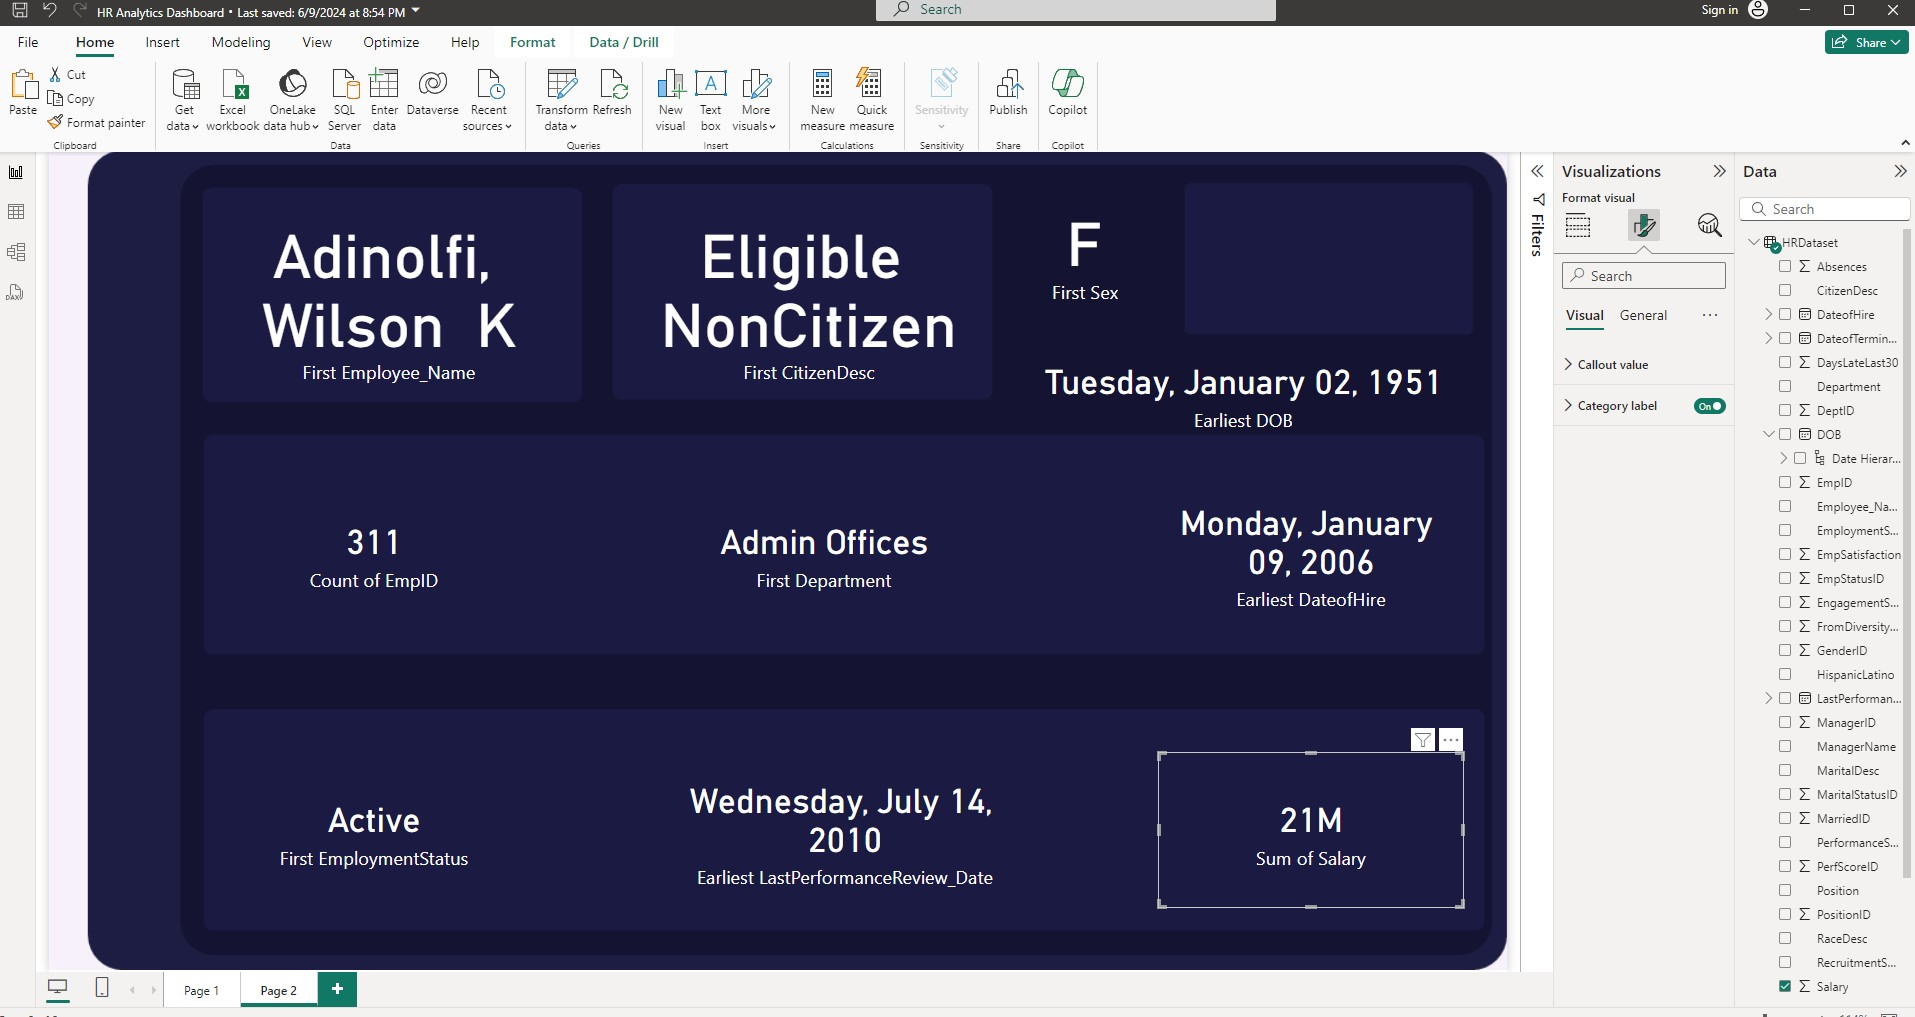

This screenshot's page, from the dashboard's own definition file:
{"tool":"powerbi","page":{"name":"Page 2","canvas":[1280,720],"ordinal":1},"visuals":[{"type":"card","fields":{"Values":["Min(HRDataset.Employee_Name)"]},"box":[151,39.5,295,171.2],"z":0},{"type":"card","fields":{"Values":["Min(HRDataset.CitizenDesc)"]},"box":[519.8,39.5,295,171.2],"z":1000},{"type":"card","fields":{"Values":["Min(HRDataset.Sex)"]},"box":[790.2,15.8,238.8,137.9],"z":2000},{"type":"card","fields":{"Values":["Min(HRDataset.DOB)"]},"box":[834.1,173.9,429.4,73.8],"z":3000},{"type":"card","fields":{"Values":["CountNonNull(HRDataset.EmpID)"]},"box":[151,282.7,268.7,137],"z":4000},{"type":"card","fields":{"Values":["Min(HRDataset.Department)"]},"box":[546.1,282.7,268.7,137],"z":5000},{"type":"card","fields":{"Values":["Min(HRDataset.DateofHire)"]},"box":[973.8,282.7,268.7,137],"z":6000},{"type":"card","fields":{"Values":["Min(HRDataset.EmploymentStatus)"]},"box":[151,526.8,268.7,137],"z":7000},{"type":"card","fields":{"Values":["Min(HRDataset.LastPerformanceReview_Date)"]},"box":[546.1,526.8,305.6,137],"z":8000},{"type":"card","fields":{"Values":["Sum(HRDataset.Salary)"]},"box":[973.8,526.8,268.7,137],"z":9000},{"type":"slicer","fields":{"Values":["HRDataset.Employee_Name"]},"box":[1022.9,27.2,219.5,134.3],"z":10000},{"type":"actionButton","box":[50.9,39.5,100.1,40.4],"z":10001}]}

Visuals, with their boxes on the page's 1280x720 design canvas (x1, y1, x2, y2). These are canvas units, not pixel positions in the 1915x1017 screenshot, which may show the page scaled, cropped or inside an application window:
card - Min(HRDataset.Employee_Name): left=151, top=40, right=446, bottom=211
card - Min(HRDataset.CitizenDesc): left=520, top=40, right=815, bottom=211
card - Min(HRDataset.Sex): left=790, top=16, right=1029, bottom=154
card - Min(HRDataset.DOB): left=834, top=174, right=1264, bottom=248
card - CountNonNull(HRDataset.EmpID): left=151, top=283, right=420, bottom=420
card - Min(HRDataset.Department): left=546, top=283, right=815, bottom=420
card - Min(HRDataset.DateofHire): left=974, top=283, right=1242, bottom=420
card - Min(HRDataset.EmploymentStatus): left=151, top=527, right=420, bottom=664
card - Min(HRDataset.LastPerformanceReview_Date): left=546, top=527, right=852, bottom=664
card - Sum(HRDataset.Salary): left=974, top=527, right=1242, bottom=664
slicer - HRDataset.Employee_Name: left=1023, top=27, right=1242, bottom=162
actionButton: left=51, top=40, right=151, bottom=80
